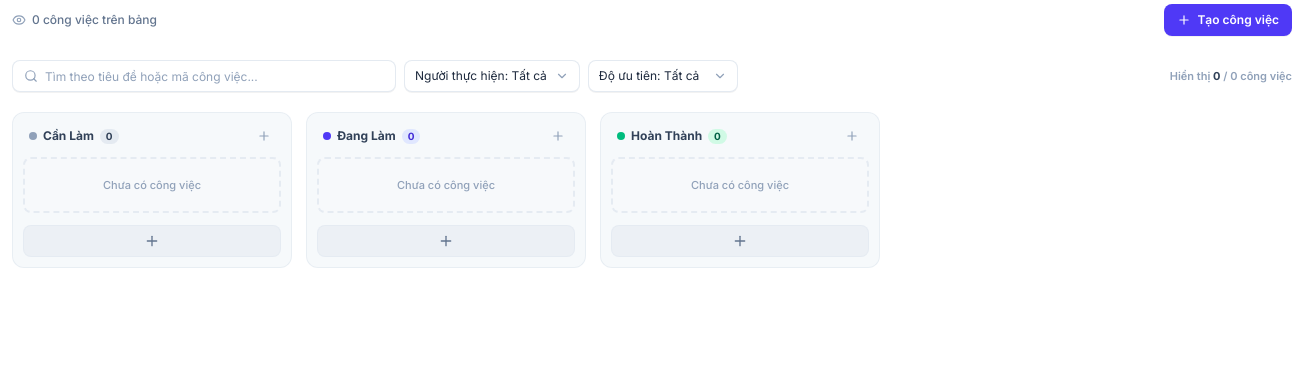
Test: KanbanBoardView - Quick Add & Create Task Tests › opens quick add form when clicking bottom [+] button and cancels on Escape
The width and height of the screenshot is (1304, 373).
Expected: the text "cần làm" is shown, [43,127,94,145]
Click the button named "Thêm công việc vào cột Cần Làm" at (152, 241), box [23,225,281,257]
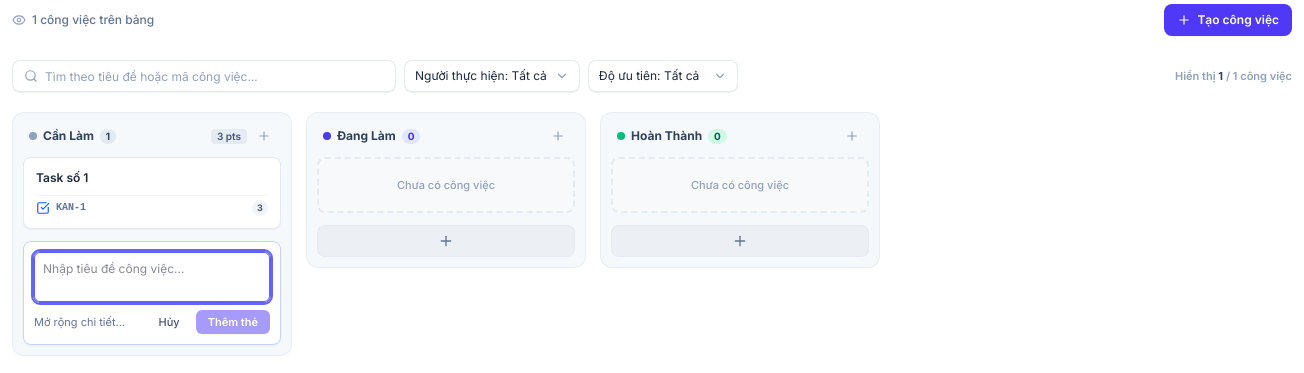
Now the text box with placeholder "Nhập tiêu đề công việc..." is shown
// Test Escape to cancel
Press Escape in the text box with placeholder "Nhập tiêu đề công việc...", box [34,252,270,302]
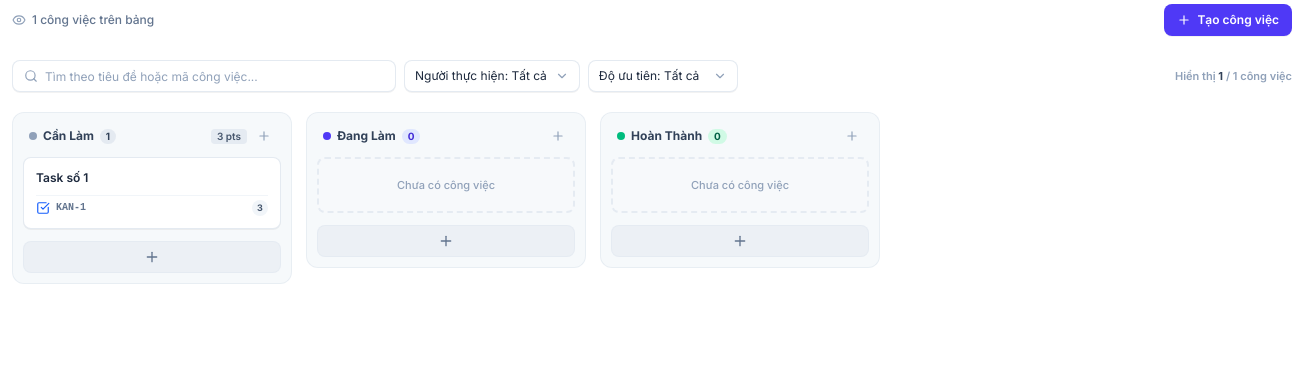
Expected: the field with placeholder "Nhập tiêu đề công việc..." is not shown
Now the button named "Thêm công việc vào cột Cần Làm" is shown, box [23,240,281,272]
